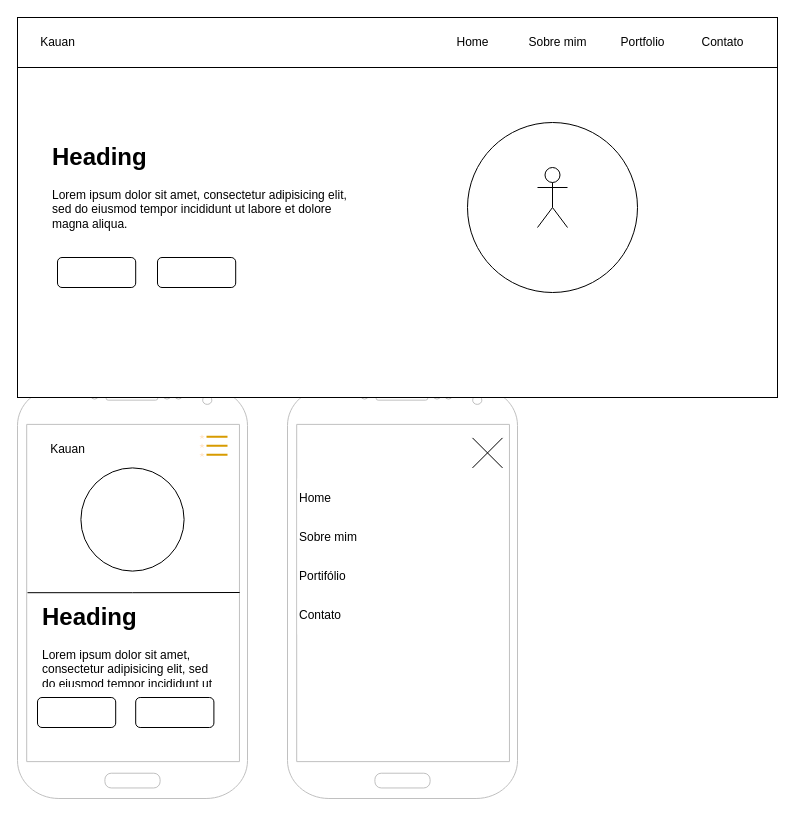
This 795x816 diagram has some shape labels left out. The centre of each missing label's shape, as x and y in pixels:
"Actor" belongs at point 552,197.
"foto" belongs at point 132,519.
